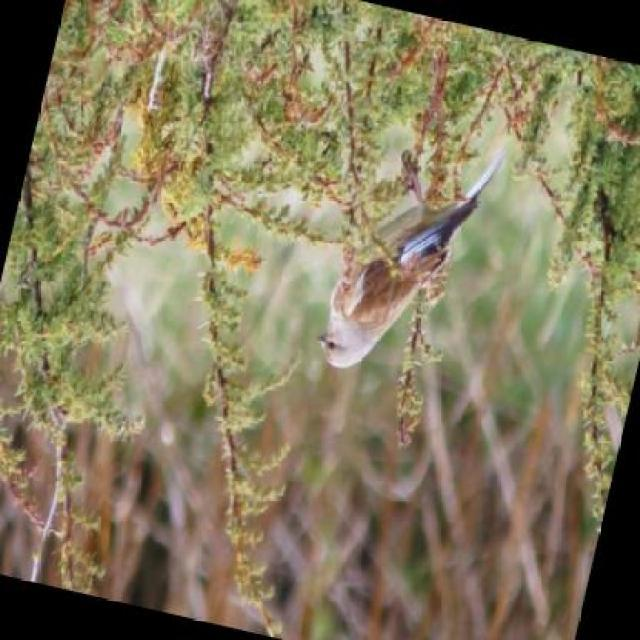Bird: (324, 137, 519, 388)
